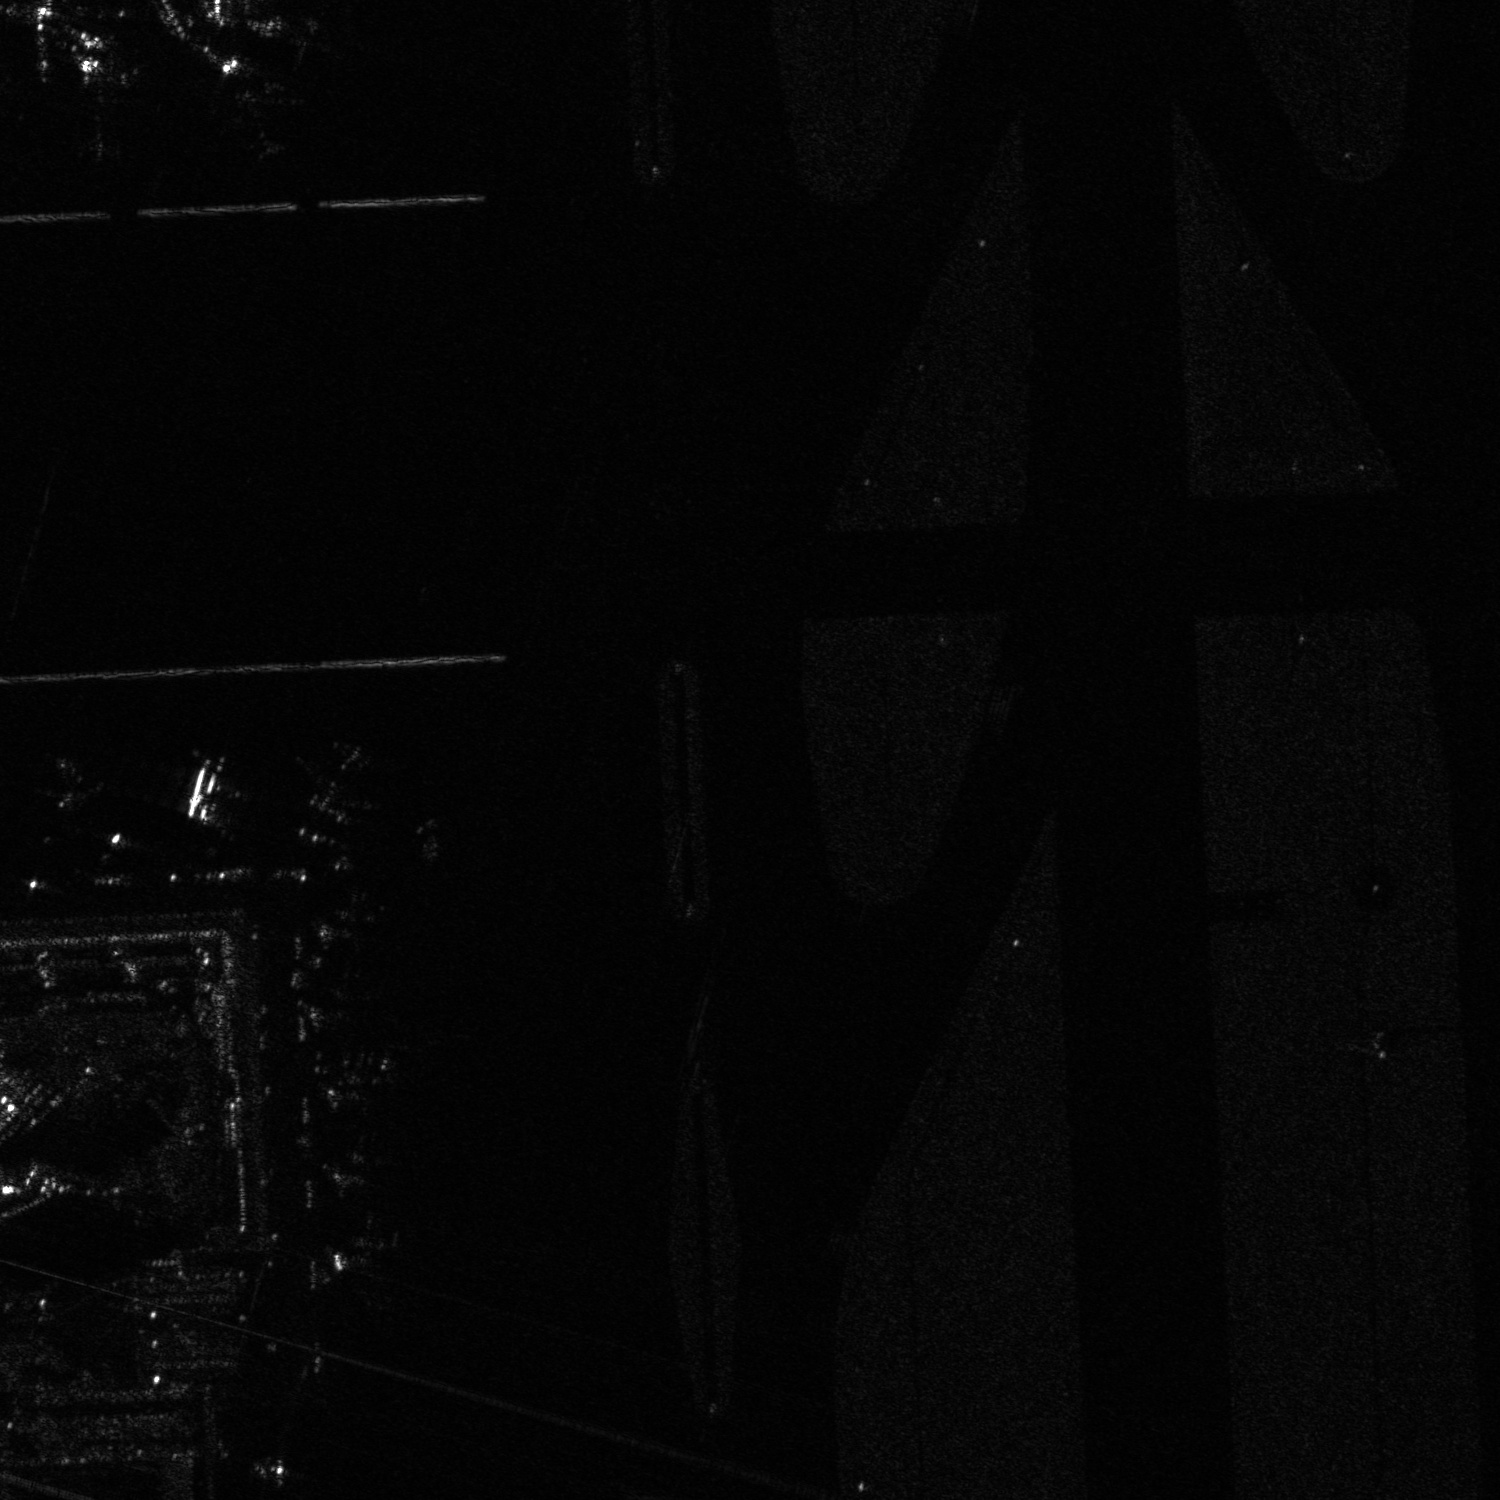A220: (253, 1455, 316, 1490)
A320/321: (295, 738, 394, 839)
Boeing737: (202, 52, 316, 162)
Boeing787: (169, 754, 251, 831), (29, 754, 104, 832)
other: (43, 54, 157, 162)
